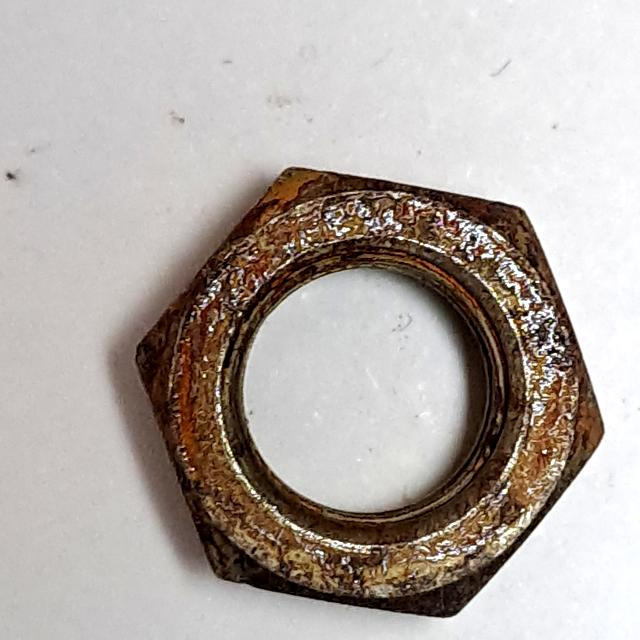Rust: (126, 154, 614, 636)
